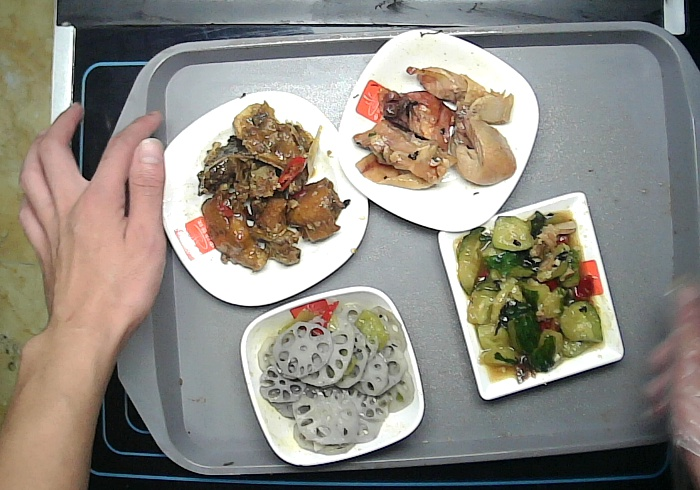SHKJ-Bai_Se_Cai_Die: (337, 29, 538, 232)
SHKJ-Bai_Se_Si_Fang_Cai_Die: (154, 91, 370, 305)
SHKJ-Bai_Se_Xiao_Fang_Die: (240, 286, 424, 466)
SHKJ-Si_Fang_Min: (438, 192, 625, 400)
